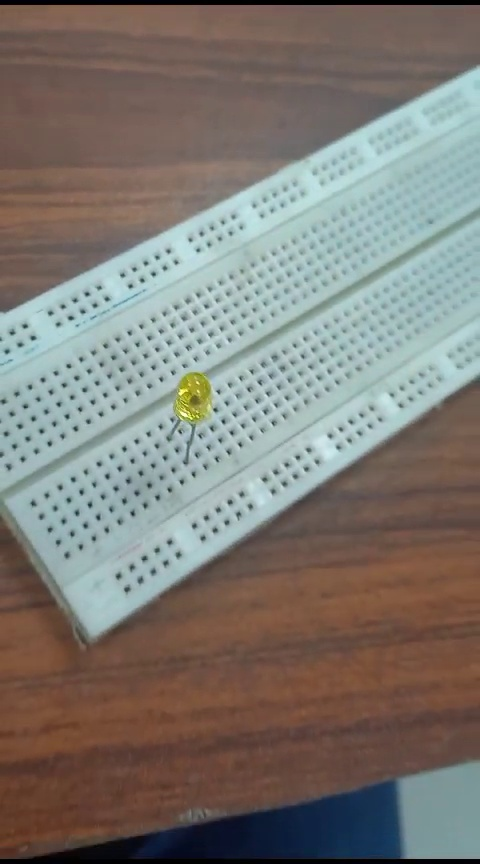LED: (163, 371, 214, 475)
